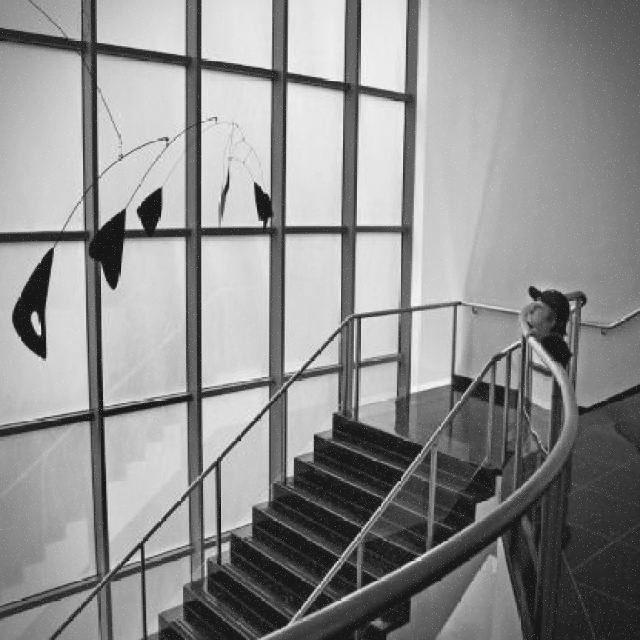stair: (137, 409, 505, 640)
